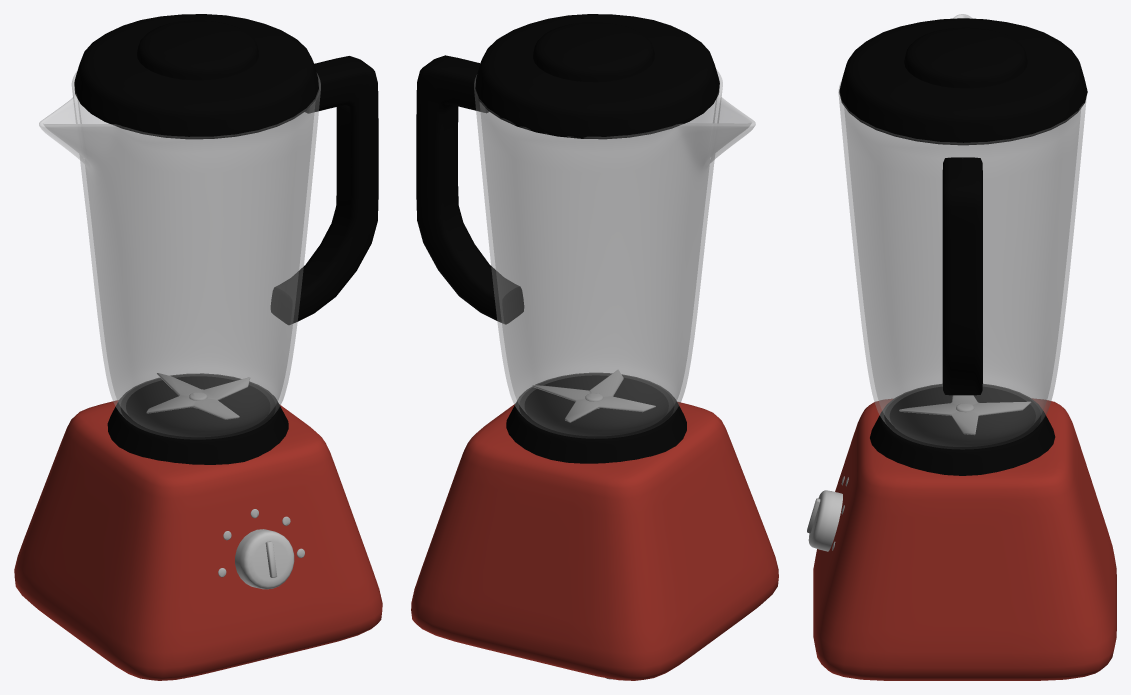
File: licuadora.glb
The picture shows the model from 3 angles, left to right: view 1: azimuth 30°, elevation 25°; view 2: azimuth 150°, elevation 25°; view 3: azimuth 270°, elevation 25°; orthographic projection.
Visible parts, largest first — view 1: Cube.001; view 2: Cube.001; view 3: Cube.001.
Boxes of the visible parts, x1,y1,x2,y2 form: Cube.001: [14, 14, 382, 680]; Cube.001: [411, 14, 778, 680]; Cube.001: [807, 14, 1116, 680].
Size of the model in its own units: 2.39 by 4.04 by 1.92.
Materials: 3 (3 with a texture image).
